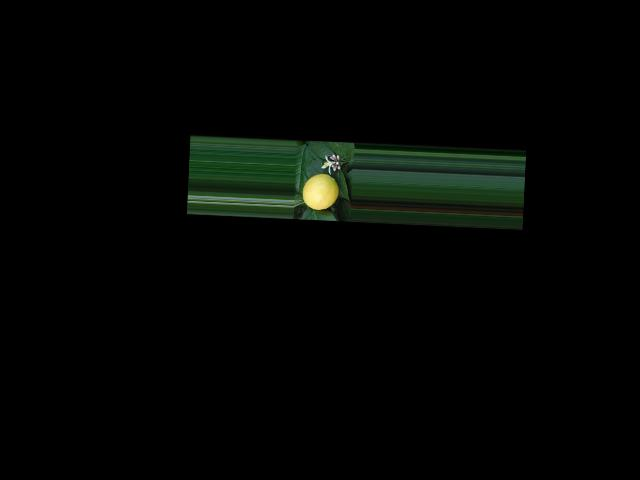lemon: (300, 172, 339, 213)
